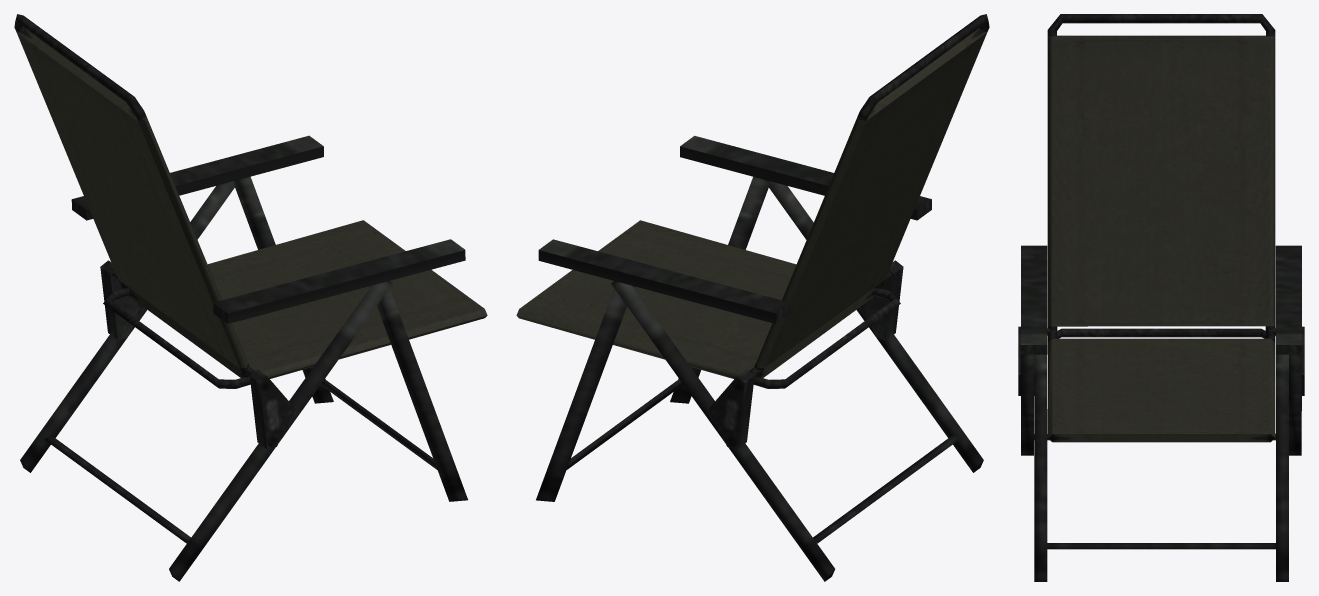
Rendered from p_us_patio_chair_lod1.glb.
3 views of the same model, side by side, from view 1: azimuth 30°, elevation 25°; view 2: azimuth 150°, elevation 25°; view 3: azimuth 270°, elevation 25° (orthographic). The views are drawn at different scales.
Parts seen in each view (by area): view 1: surf1, surf0; view 2: surf1, surf0; view 3: surf1, surf0.
Part boxes in pixels (left/top/right/bottom): surf1: left=16, top=28, right=487, bottom=378; surf0: left=14, top=14, right=467, bottom=581; surf1: left=516, top=28, right=987, bottom=378; surf0: left=536, top=14, right=989, bottom=581; surf1: left=1047, top=35, right=1275, bottom=442; surf0: left=1018, top=14, right=1304, bottom=581.
Size of the model in its own units: 39.4 by 50.74 by 30.68.
